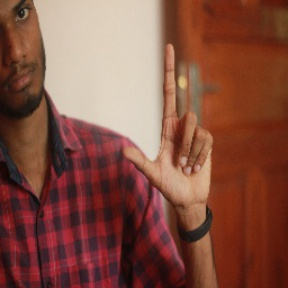L: (122, 42, 220, 204)
